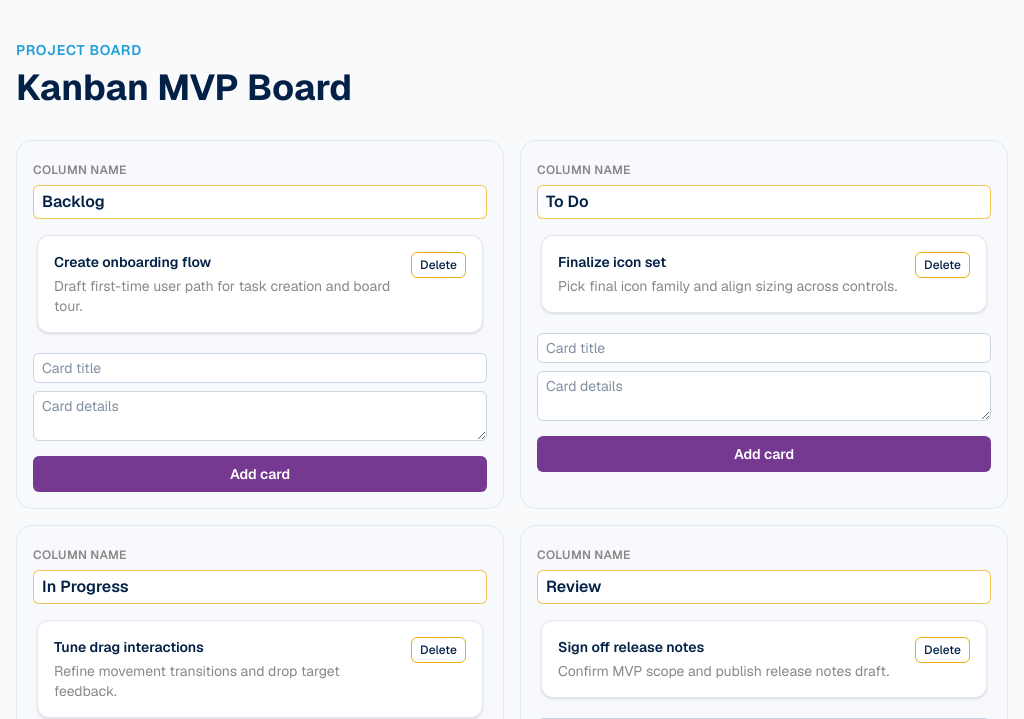
Test: KanbanBoard › adds and deletes a card
The image size is (1024, 719).
Step 1. Type "Write tests" into the 2nd field with placeholder "Card title" → [260, 368], box [33,353,487,383]
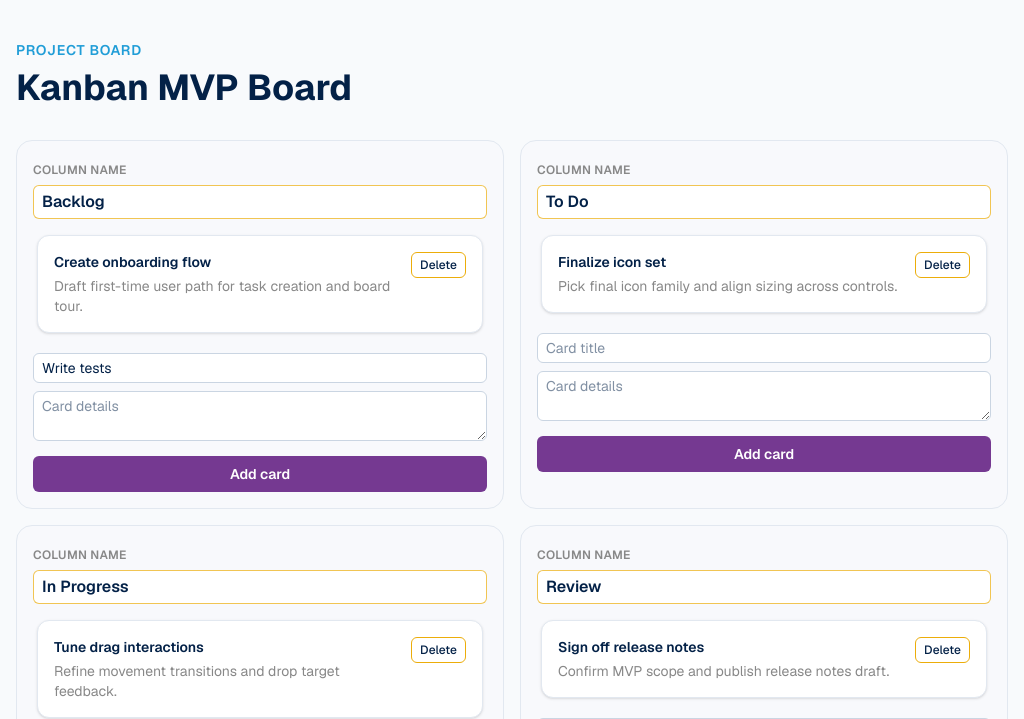
Step 2. Type "cover key flows" into the 2nd text box with placeholder "Card details" → [260, 416], box [33,391,487,441]
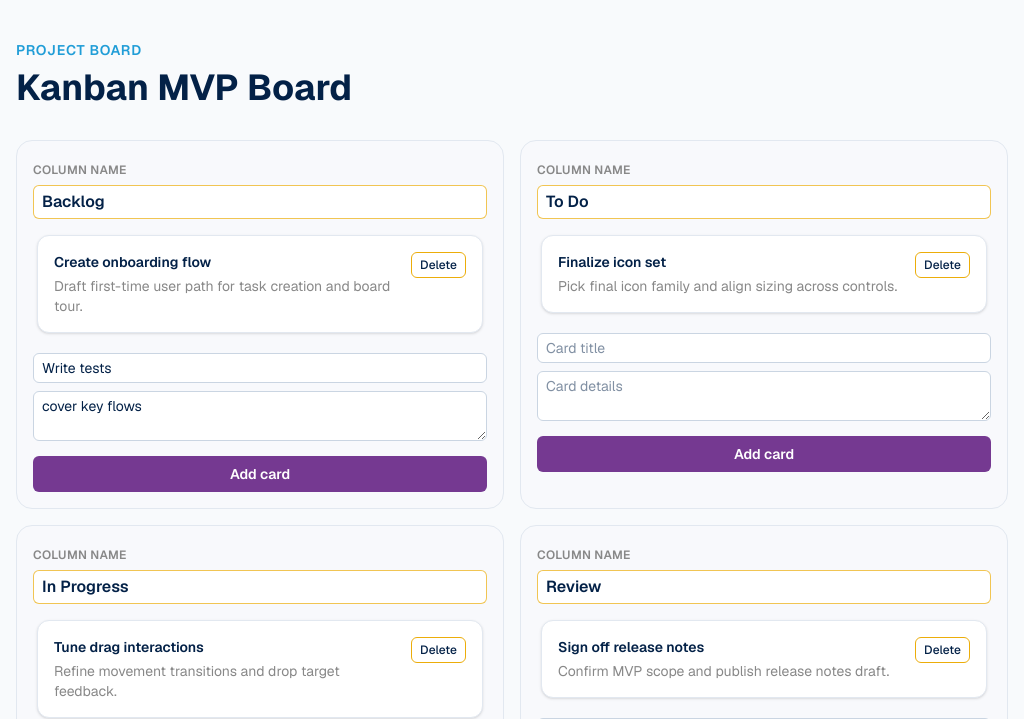
Step 3. Click the 2nd button "Add card" → [260, 474], box [33,456,487,492]
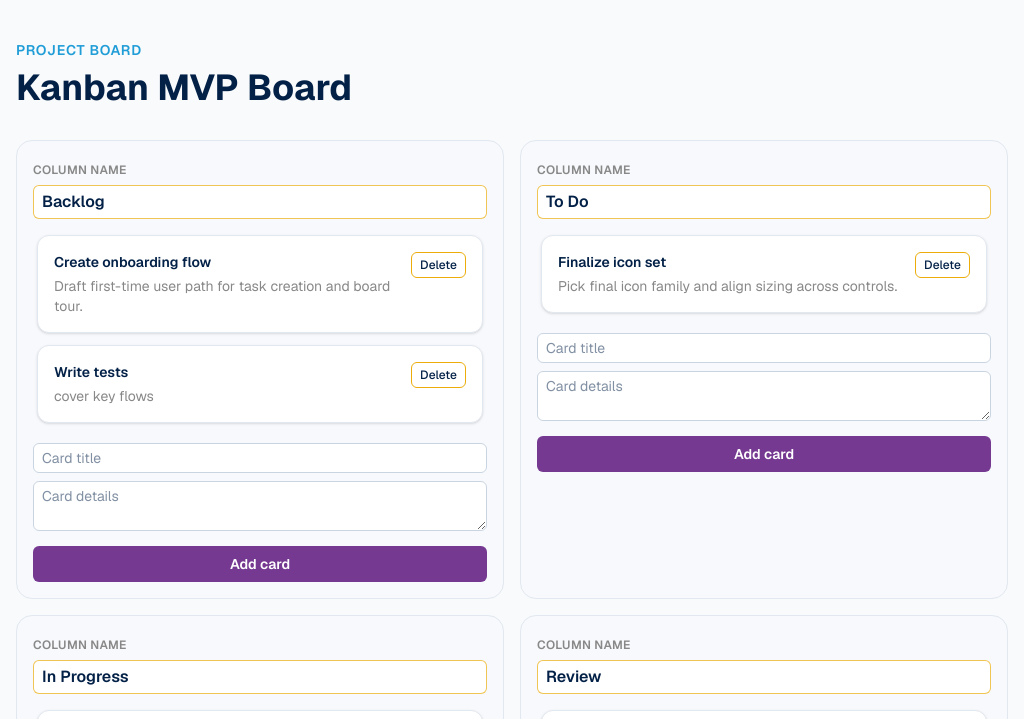
Expected: the heading "Write tests" is shown, [54,363,128,381]
Step 4. Click the button with aria-label "Delete Write tests" → [439, 375], box [411,362,466,388]
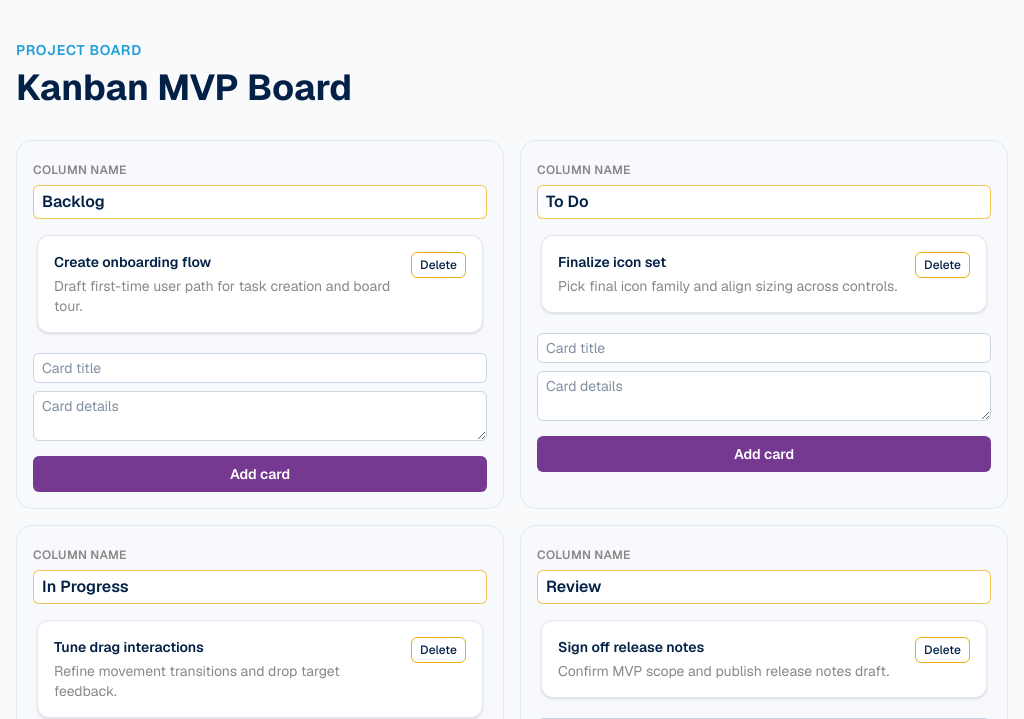
Expected: the button "Write tests" is gone
